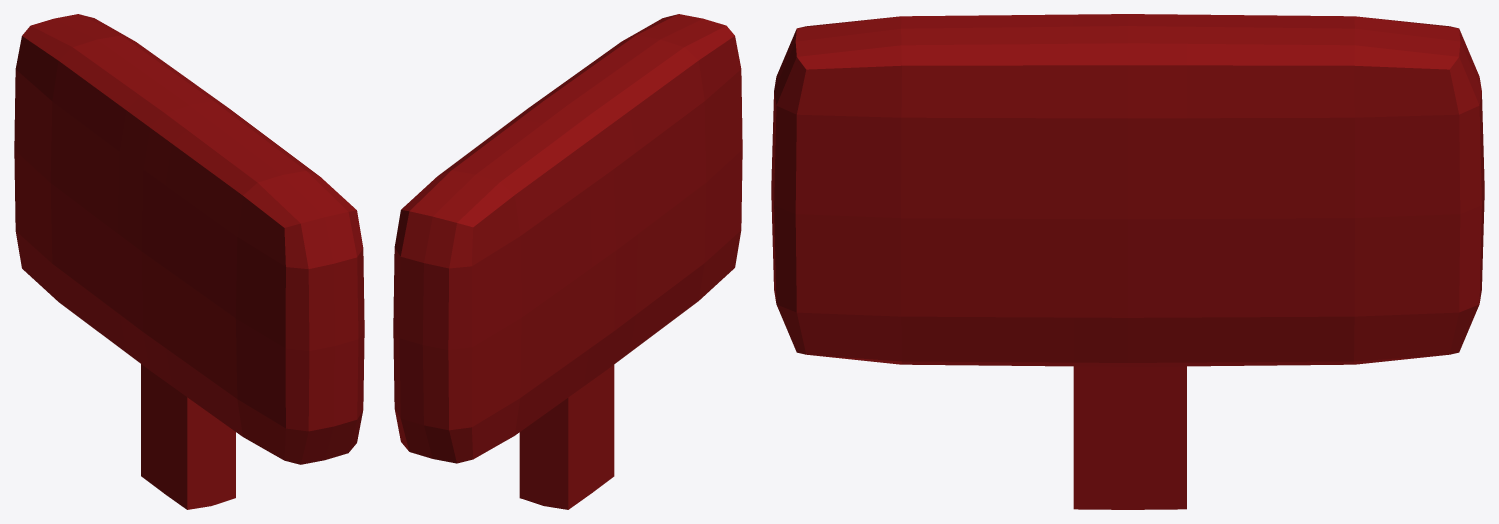
The model's file is red_small_sign.fbx.
3 views of the same model, side by side, from view 1: azimuth 30°, elevation 25°; view 2: azimuth 150°, elevation 25°; view 3: azimuth 270°, elevation 25° (orthographic). The views are drawn at different scales.
Visible parts, largest first — view 1: Cube.001; view 2: Cube.001; view 3: Cube.001.
Part boxes in pixels (x1,y1,x2,y2): Cube.001: (14, 14, 364, 509); Cube.001: (393, 14, 742, 509); Cube.001: (771, 14, 1484, 509).
Size of the model in its own units: 56.49 by 215 by 295.
